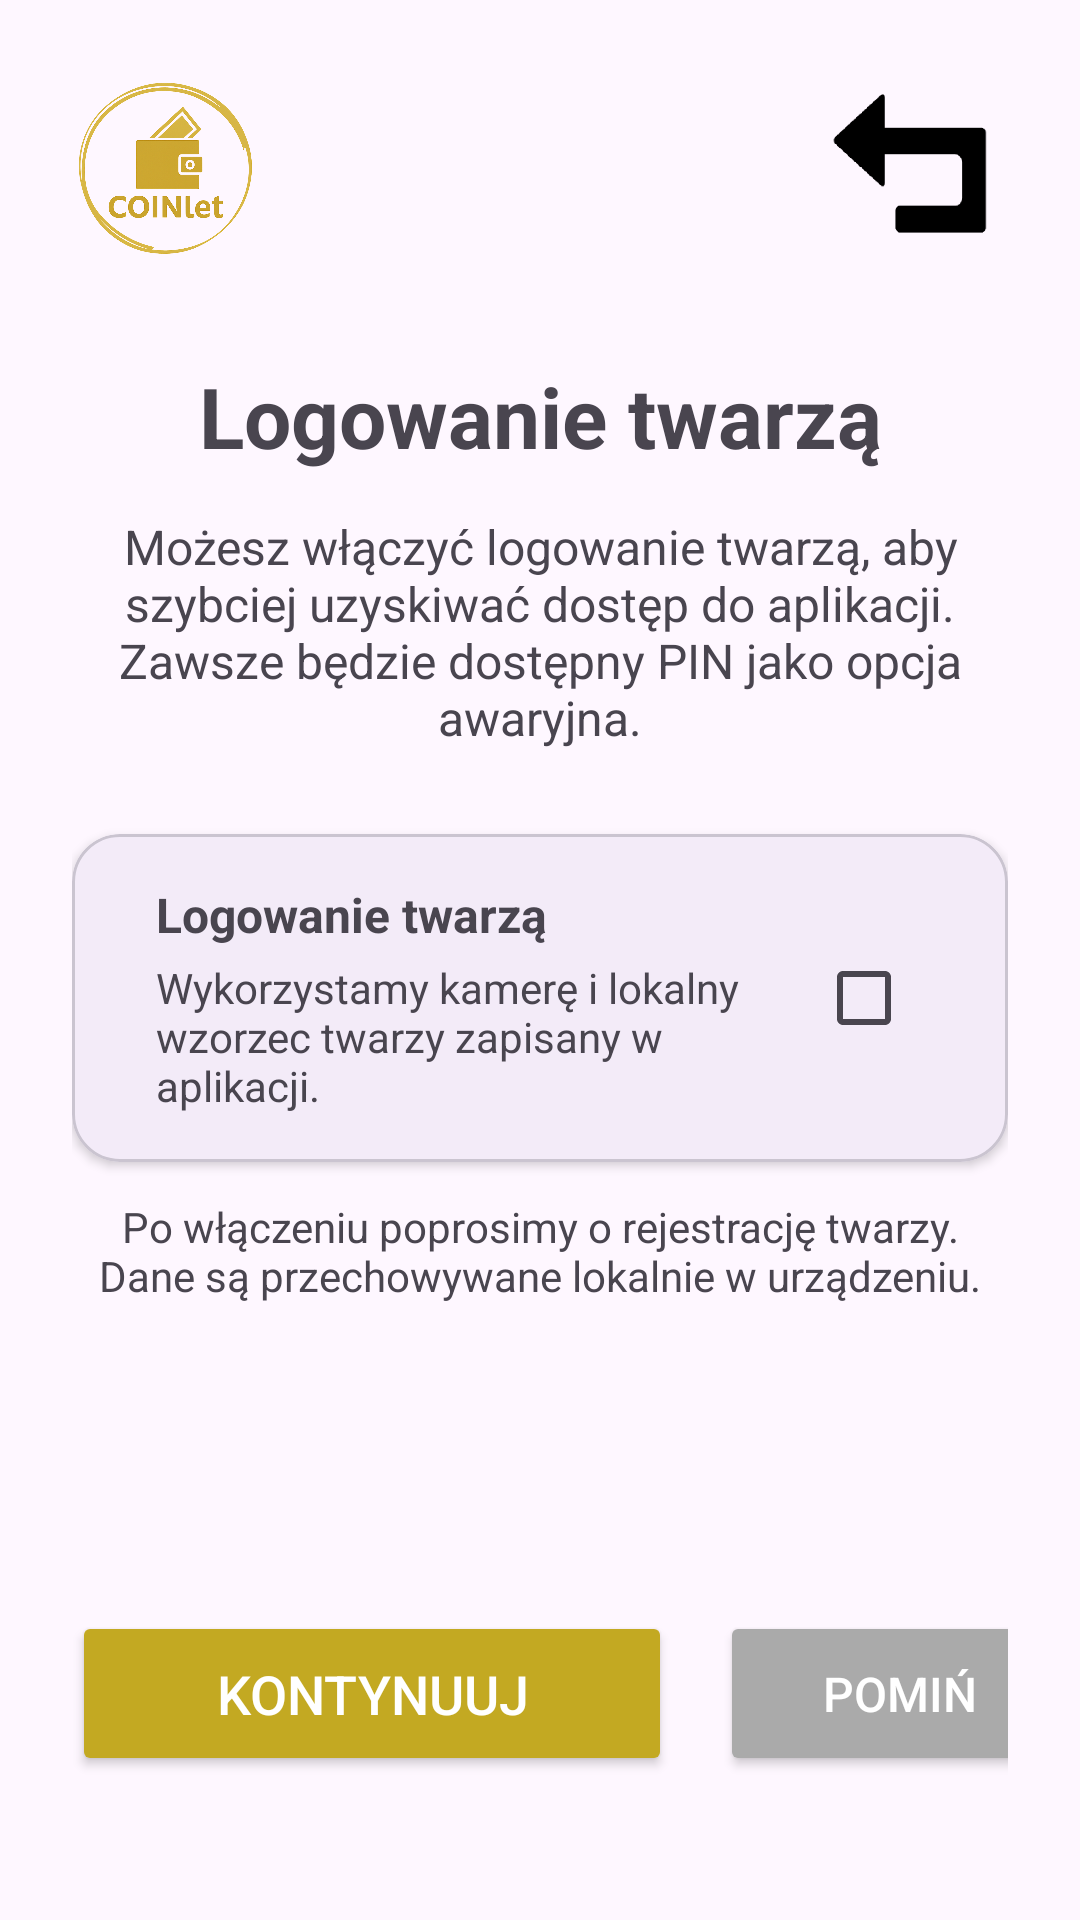

Screen size 1080w x 1920h. Icon name, then its box in pixels as (x1, y1, x2, y2):
back: (833, 94, 987, 233)
